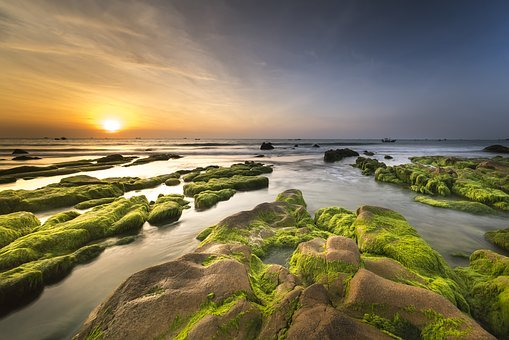field: (2, 140, 506, 340)
sky: (1, 2, 509, 142)
